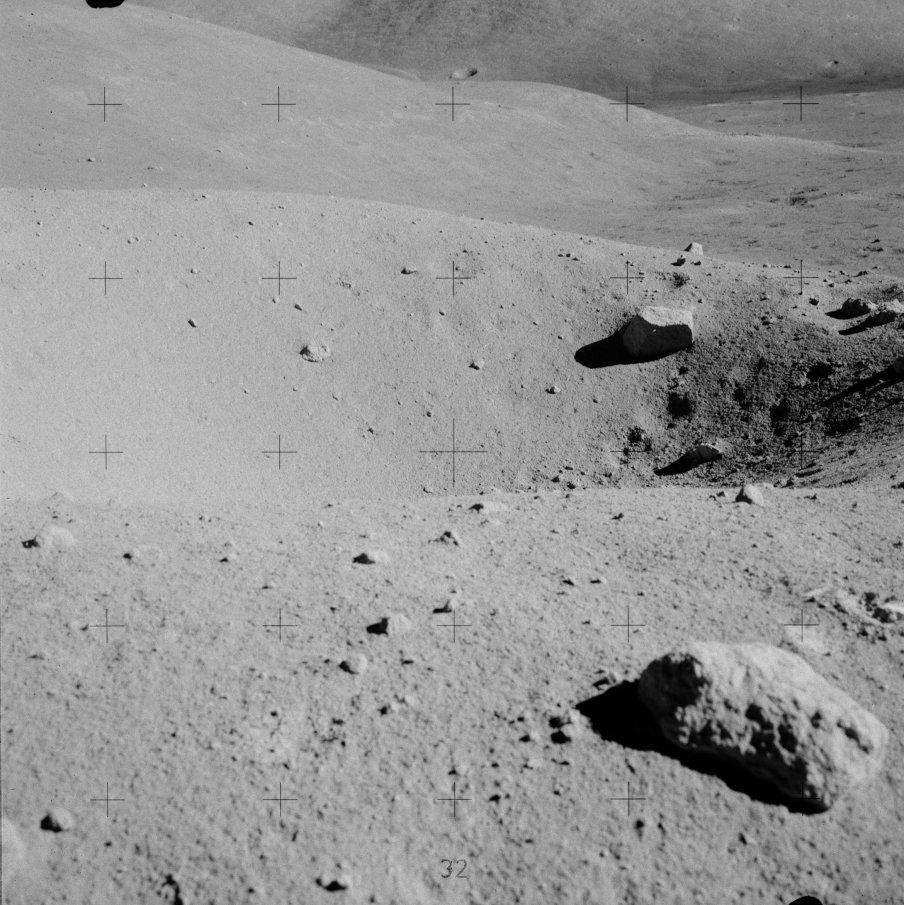rock: (640, 642, 889, 808), (622, 306, 695, 359)
